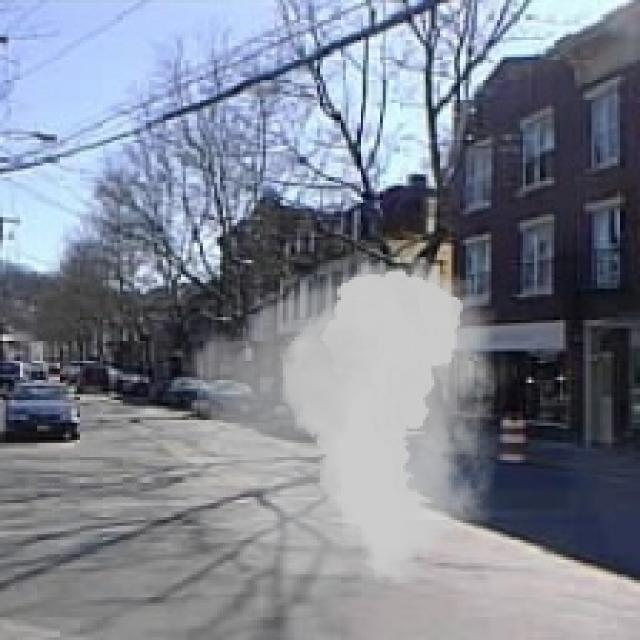Smoke: (145, 245, 526, 606)
